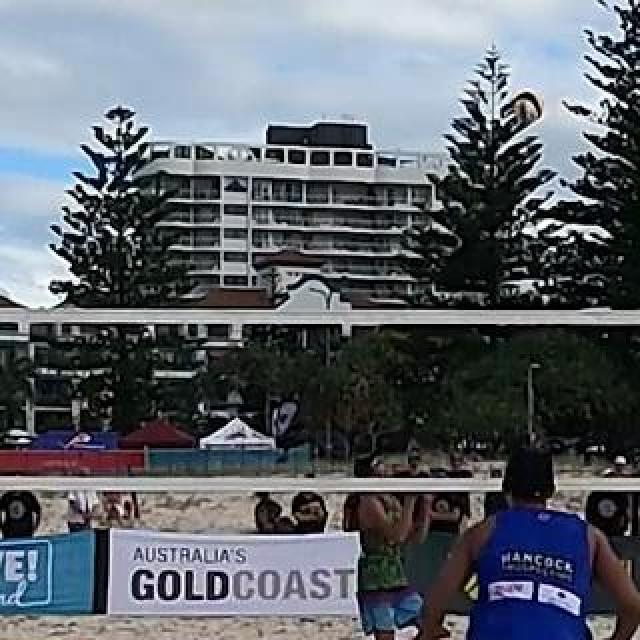volleyball: (516, 92, 544, 122)
